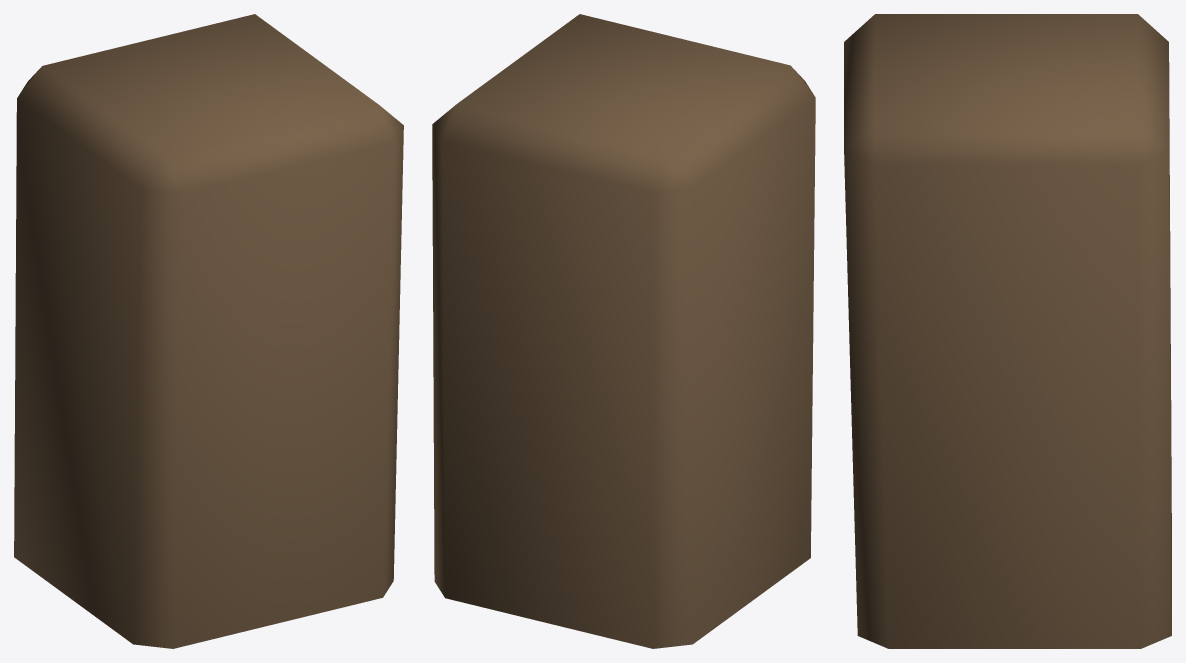
File: rpgpp_av_wall_connector_corner_01a_1m.gltf
The picture shows the model from 3 angles, left to right: view 1: azimuth 30°, elevation 25°; view 2: azimuth 150°, elevation 25°; view 3: azimuth 270°, elevation 25°; orthographic projection. The views are drawn at different scales.
Visible parts, largest first — view 1: rpgpp_av_wall_connector_corner_01a_1m; view 2: rpgpp_av_wall_connector_corner_01a_1m; view 3: rpgpp_av_wall_connector_corner_01a_1m.
Boxes of the visible parts, x1,y1,x2,y2 form: rpgpp_av_wall_connector_corner_01a_1m: (14, 14, 403, 648); rpgpp_av_wall_connector_corner_01a_1m: (432, 14, 815, 648); rpgpp_av_wall_connector_corner_01a_1m: (844, 14, 1171, 648).
Size of the model in its own units: 0.00626 by 0.011 by 0.00635.
Materials: 1 (1 with a texture image).
